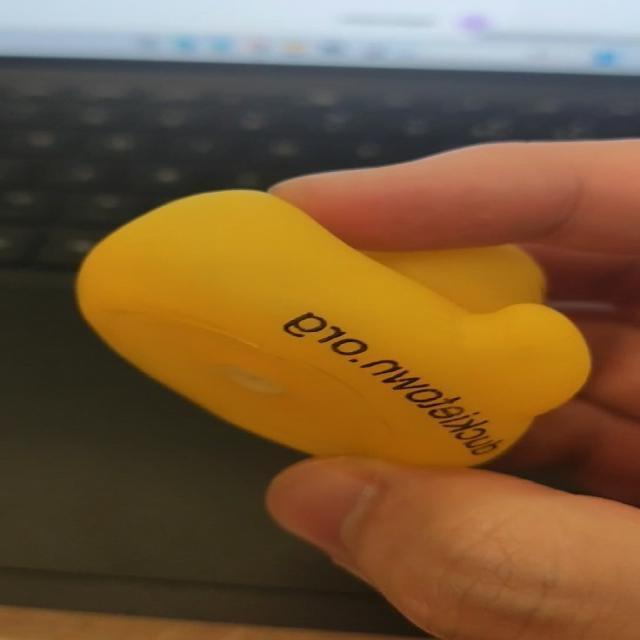rubber-duck: (76, 189, 588, 464)
